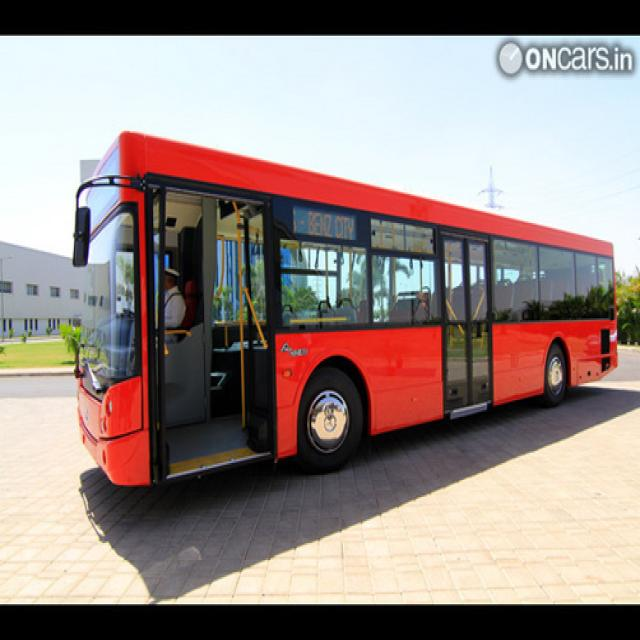bus: (74, 132, 619, 485)
